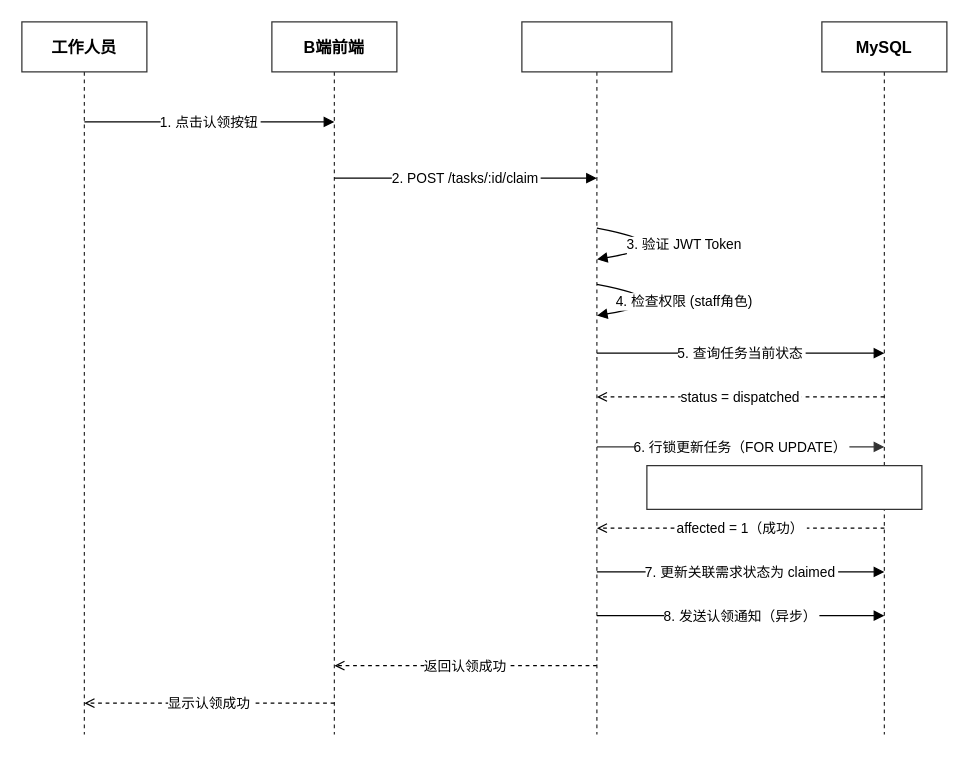
Some shapes in this 969 by 758 pixel diagram are drawn without their labels. Here are the shapes that lost their labels. From the top down, the centre of each, then its label:
At (x=596, y=46): "后端服务".
At (x=784, y=486): "SELECT ... FOR UPDATE + 状态校验 保证认领并发安全".
